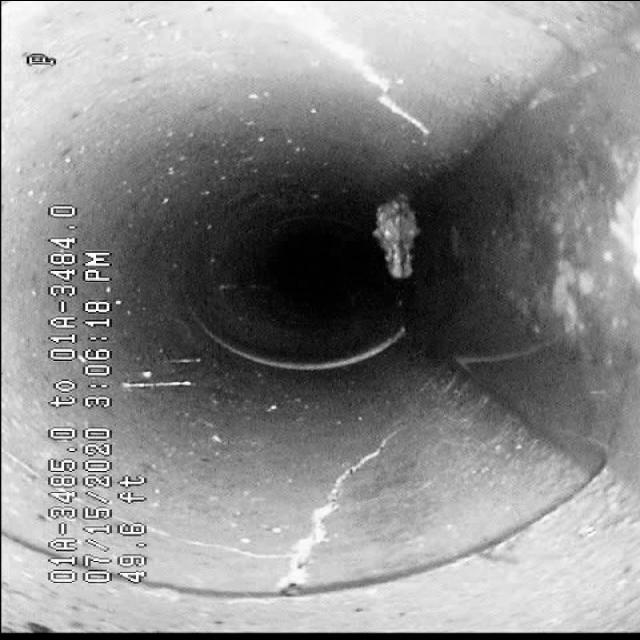Crack: (240, 403, 408, 591), (252, 8, 440, 128)
